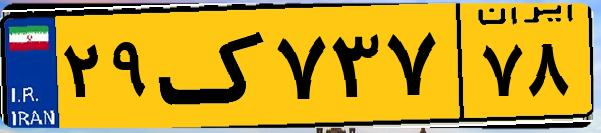2: (57, 26, 110, 100)
3: (330, 28, 385, 110)
7: (270, 28, 330, 110), (385, 28, 445, 110), (475, 38, 525, 113)
8: (525, 38, 570, 115)
9: (110, 28, 158, 98)
ک: (158, 12, 270, 120)
